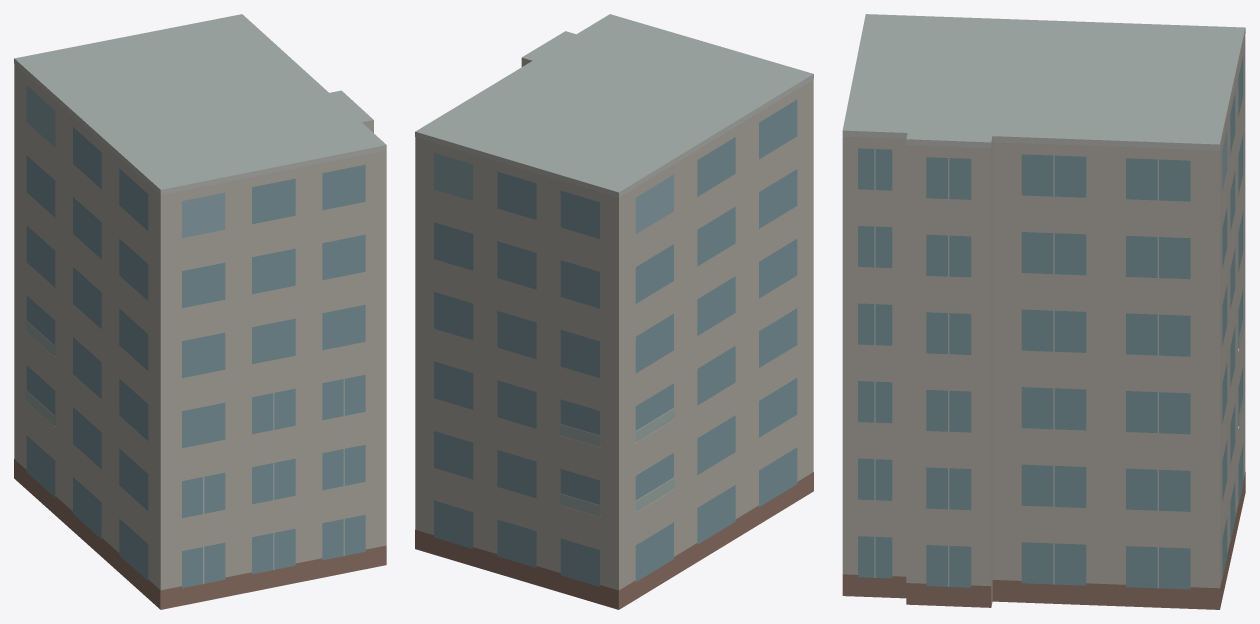
File: survey-upis-32542992.glb
3 views of the same model, side by side, from view 1: azimuth 30°, elevation 25°; view 2: azimuth 150°, elevation 25°; view 3: azimuth 270°, elevation 25° (orthographic). The views are drawn at different scales.
Visible parts, largest first — view 1: survey-upis-32542992.tmp; view 2: survey-upis-32542992.tmp; view 3: survey-upis-32542992.tmp.
Part boxes in pixels (x1,y1,x2,y2): survey-upis-32542992.tmp: (14,14,386,609); survey-upis-32542992.tmp: (415,14,813,609); survey-upis-32542992.tmp: (842,14,1245,609).
Size of the model in its own units: 11.49 by 19.1 by 15.
